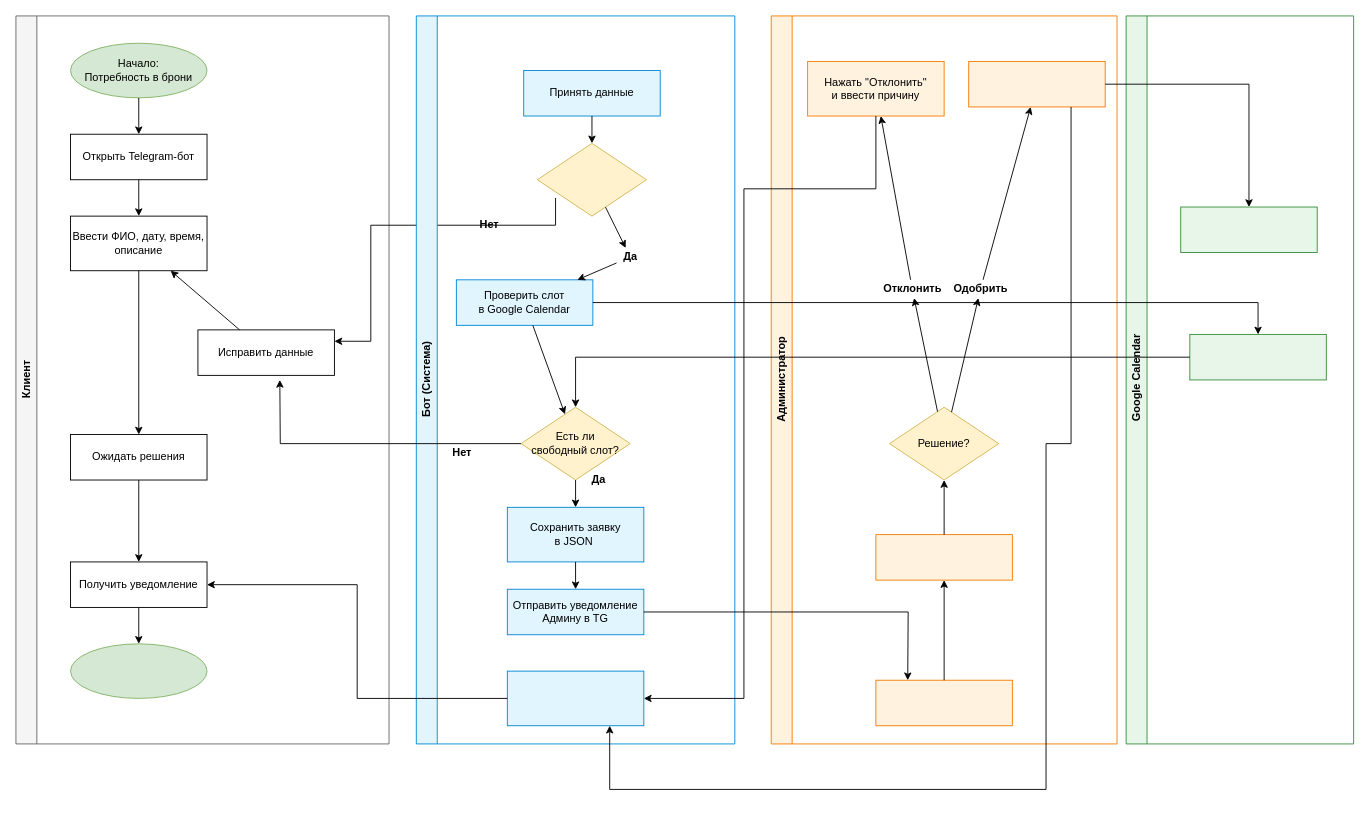
This 1370x813 diagram has some shape labels left out. Each missing label, with the centre of its shape:
Данные валидны?: pixel 591 179
Конец: pixel 138 670
Нажать "Одобрить": pixel 1036 84
Ознакомиться с заявкой: pixel 943 557
Отправить уведомление Клиенту (Одобрено/Отклонено): pixel 575 698
Получить уведомление в TG: pixel 943 702
Проверить занятость: pixel 1257 357
Создать событие (бронь): pixel 1248 229
